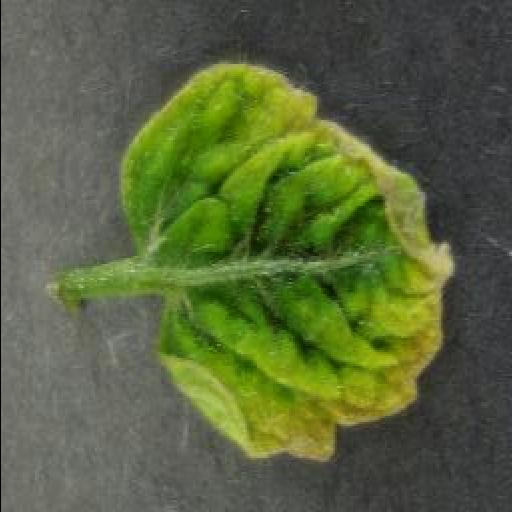disease_tomato: (116, 63, 456, 463)
